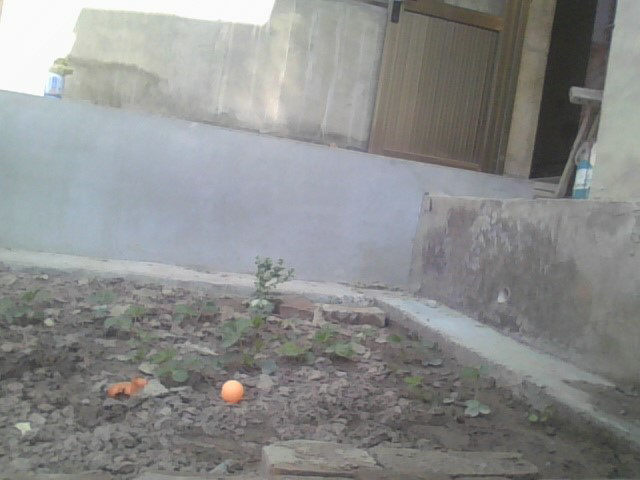ball: (222, 379, 242, 405)
